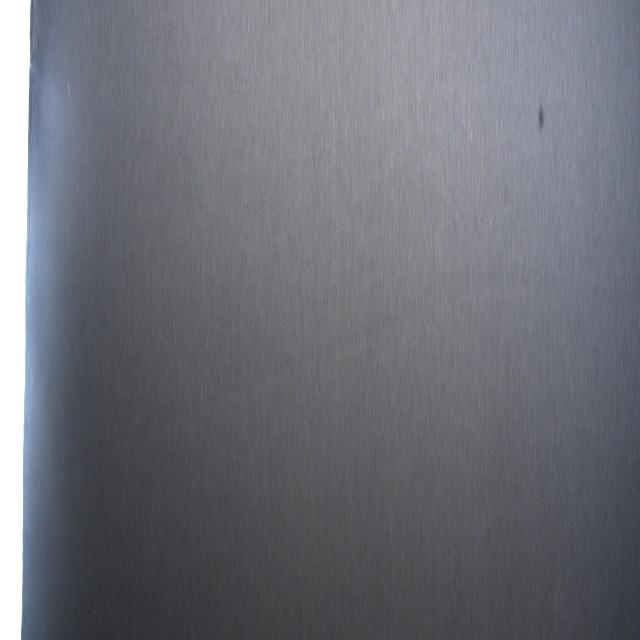crease: (24, 297, 413, 510), (378, 0, 492, 303), (24, 206, 220, 328)
whiteDefect: (67, 72, 70, 101)
